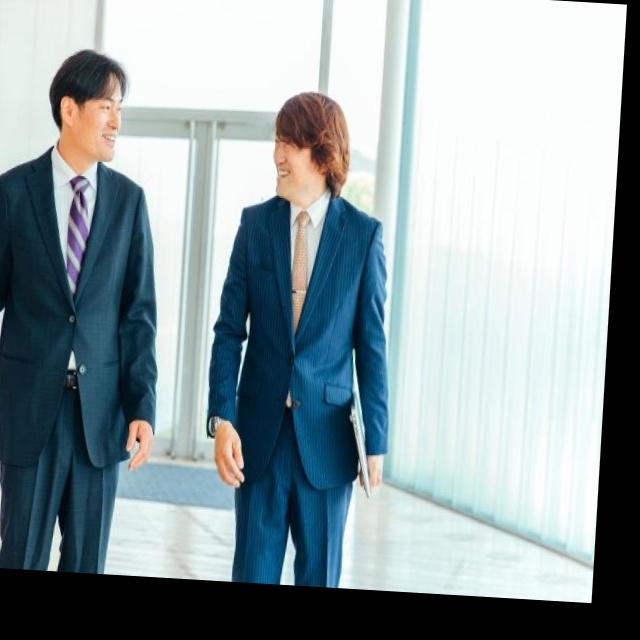Sin_Casco_Mascarrilla: (44, 49, 134, 162), (269, 92, 351, 205)
Sin_Chaleco: (0, 152, 153, 447), (220, 195, 381, 419)
